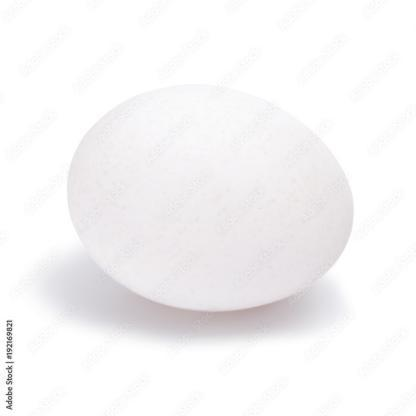egg: (63, 80, 359, 318)
